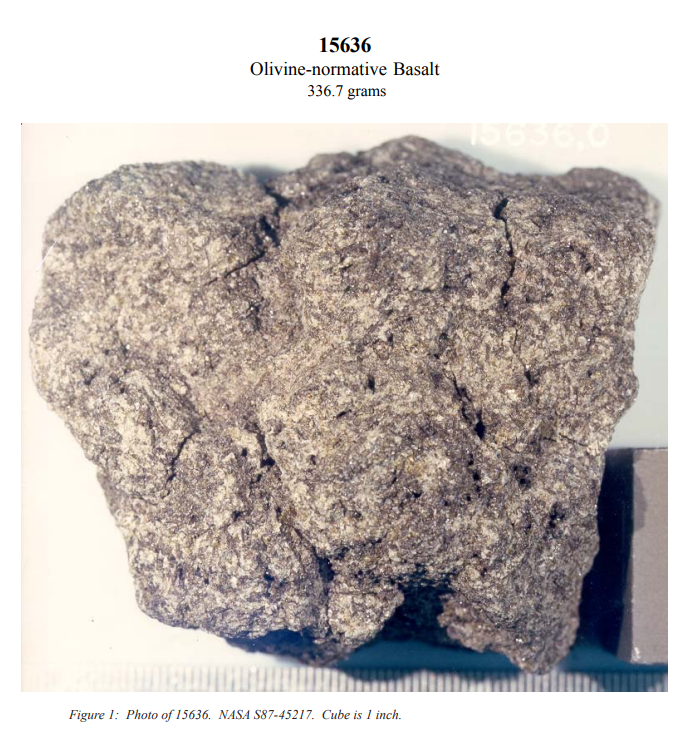Basalt: (41, 149, 644, 662)
